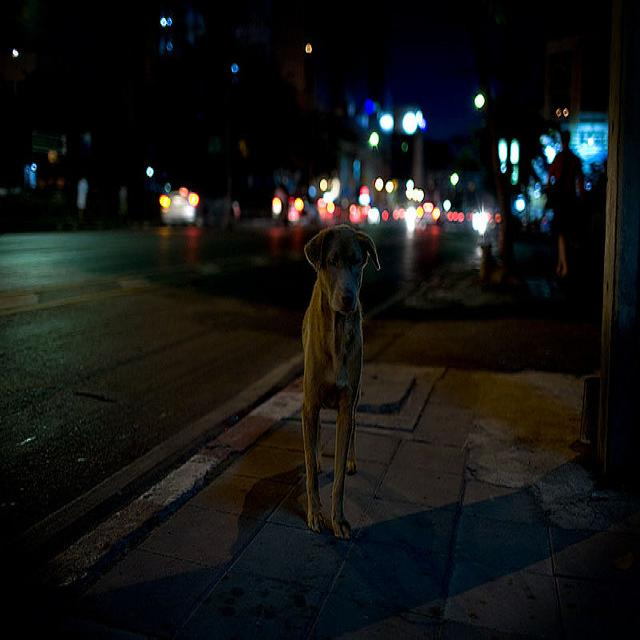dog: (274, 223, 397, 533)
